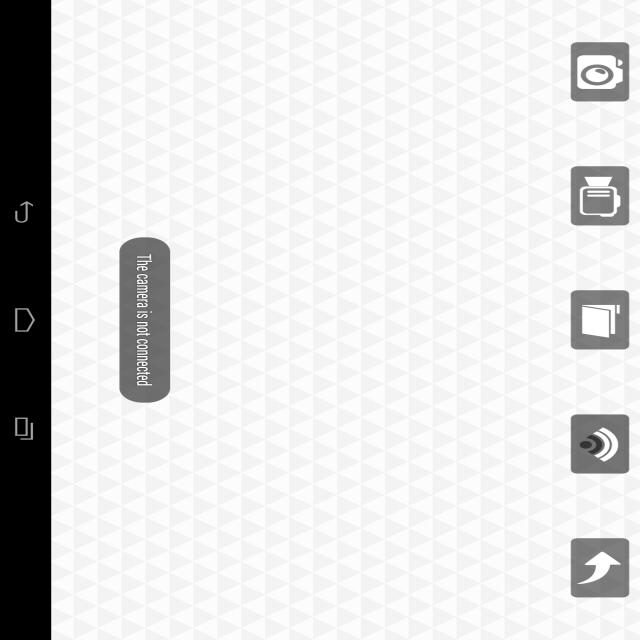Button: (567, 412, 635, 477), (566, 39, 633, 104), (568, 536, 636, 600), (569, 164, 634, 228), (568, 288, 632, 351)
TextView: (132, 252, 160, 389)
